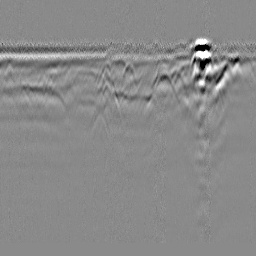cavity: (120, 60, 136, 85)
